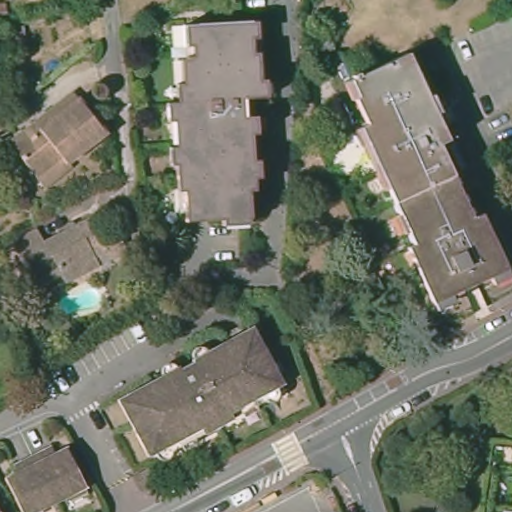pool: (47, 287, 107, 321)
